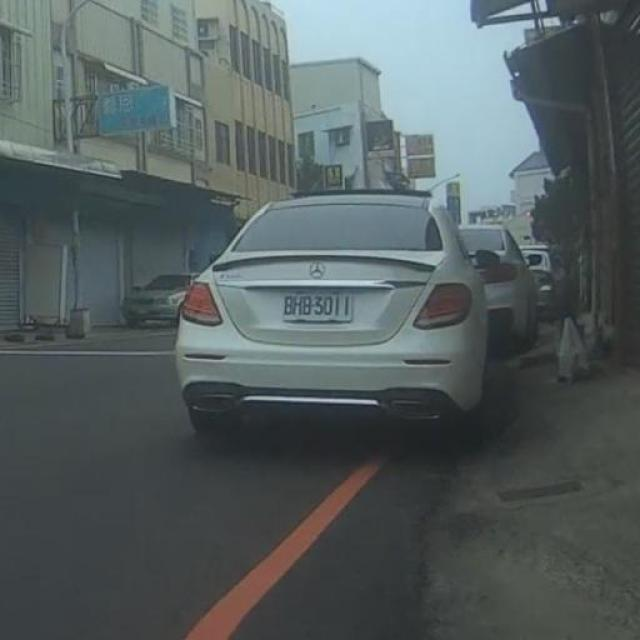illegalparking: (175, 190, 536, 432)
